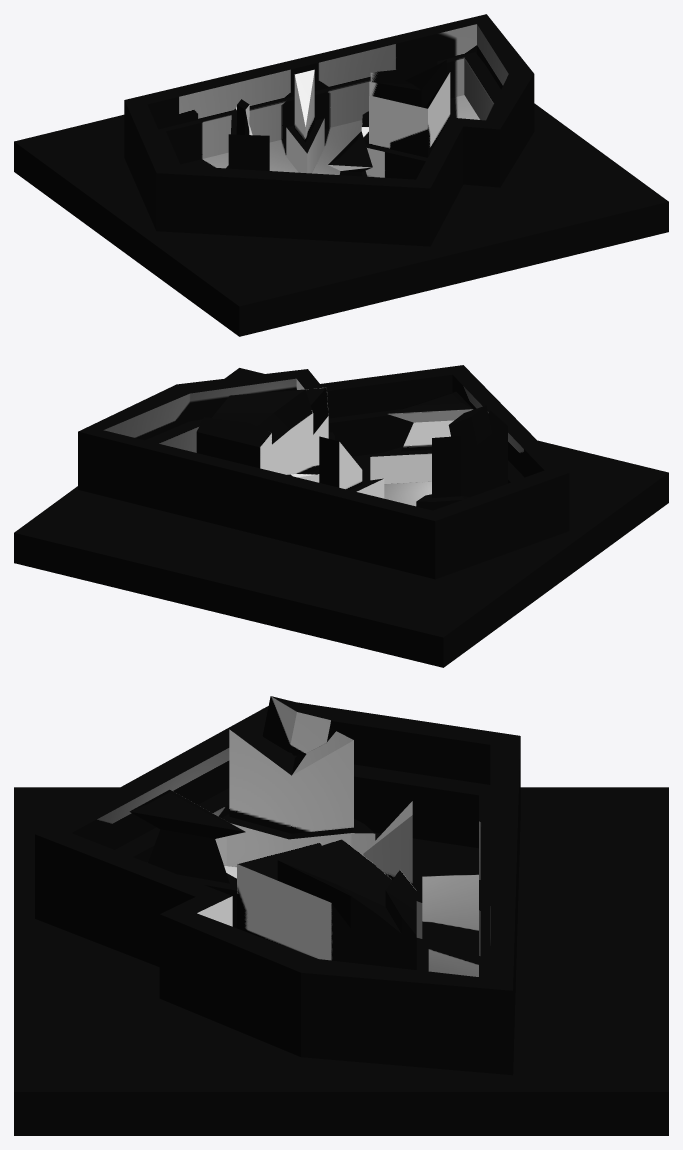
The model's file is level_2-3.fbx.
3 renders of one model, top to bottom at view 1: azimuth 30°, elevation 25°; view 2: azimuth 150°, elevation 25°; view 3: azimuth 270°, elevation 25°, orthographic. The views are drawn at different scales.
Parts seen in each view (by area): view 1: Plane, upper_wall.001, Lower_wall, Pillar_red, Pillar_blue, Pillar_red_base, Pillar_magenta_base, Pillar_magenta, Pillar_salmon; view 2: Plane, upper_wall.001, Pillar_red, Pillar_blue, Lower_wall, Pillar_salmon, Pillar_salmon_base, Pillar_magenta, Pillar_blue_base; view 3: Plane, upper_wall.001, Pillar_red, Pillar_blue, Lower_wall, Pillar_salmon, Pillar_blue_base, Pillar_magenta, Pillar_salmon_base.
Part boxes in pixels (bbox=[...]): Plane: bbox=[14, 95, 668, 336]; upper_wall.001: bbox=[124, 14, 534, 246]; Lower_wall: bbox=[158, 52, 500, 165]; Pillar_red: bbox=[369, 56, 450, 157]; Pillar_blue: bbox=[228, 99, 269, 170]; Pillar_red_base: bbox=[361, 109, 454, 179]; Pillar_magenta_base: bbox=[286, 118, 324, 173]; Pillar_magenta: bbox=[294, 69, 314, 142]; Pillar_salmon: bbox=[328, 131, 372, 176]; Plane: bbox=[14, 368, 668, 667]; upper_wall.001: bbox=[78, 365, 569, 579]; Pillar_red: bbox=[196, 387, 328, 475]; Pillar_blue: bbox=[432, 405, 507, 497]; Lower_wall: bbox=[145, 409, 524, 483]; Pillar_salmon: bbox=[388, 391, 473, 451]; Pillar_salmon_base: bbox=[370, 446, 431, 483]; Pillar_magenta: bbox=[319, 436, 362, 490]; Pillar_blue_base: bbox=[416, 494, 469, 510]; Plane: bbox=[14, 787, 668, 1135]; upper_wall.001: bbox=[35, 702, 520, 1075]; Pillar_red: bbox=[237, 839, 416, 969]; Pillar_blue: bbox=[229, 696, 353, 833]; Lower_wall: bbox=[115, 755, 490, 978]; Pillar_salmon: bbox=[129, 789, 245, 883]; Pillar_blue_base: bbox=[215, 814, 375, 866]; Pillar_magenta: bbox=[363, 801, 412, 884]; Pillar_salmon_base: bbox=[147, 862, 236, 928].
Bounding box in the file's own units: 26.9 × 8.33 × 24.45.
Materials: 11 (11 with a texture image).
